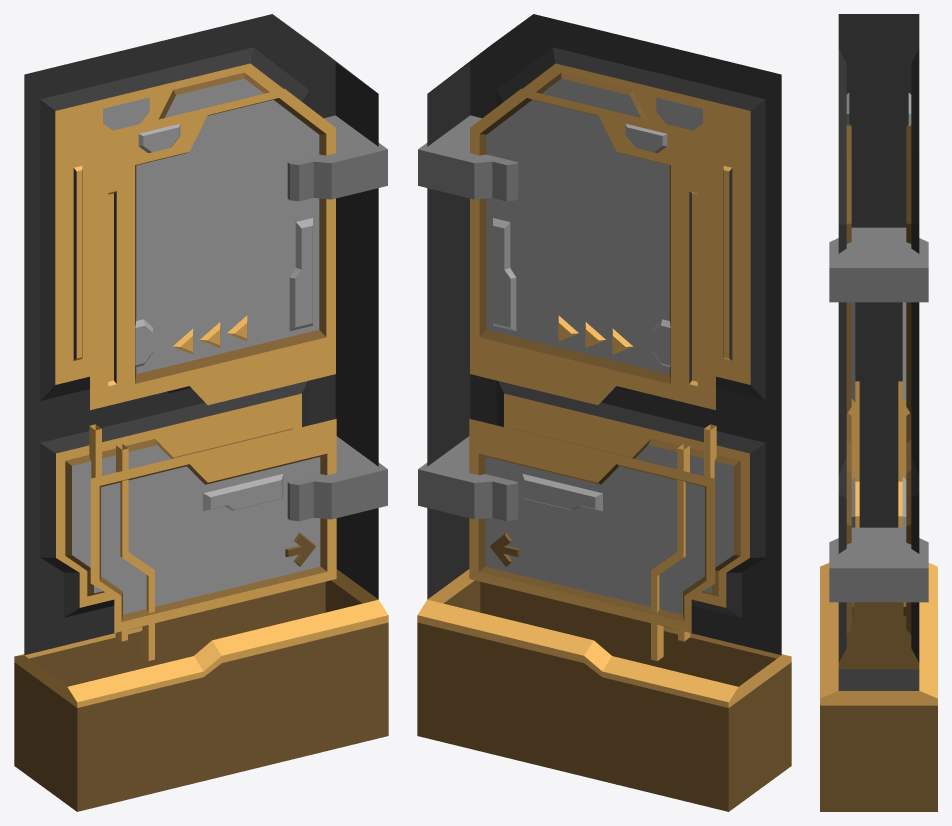
Rendered from door_double_r.obj.
3 renders of one model, left to right at view 1: azimuth 30°, elevation 25°; view 2: azimuth 150°, elevation 25°; view 3: azimuth 270°, elevation 25°, orthographic. The views are drawn at different scales.
Visible parts, largest first — view 1: door_double_r; view 2: door_double_r; view 3: door_double_r.
Boxes of the visible parts, left/top/right/bottom form: door_double_r: left=14, top=14, right=388, bottom=811; door_double_r: left=417, top=14, right=791, bottom=811; door_double_r: left=820, top=14, right=937, bottom=811.
Bounding box in the file's own units: 1.32 × 2.79 × 0.4542.
